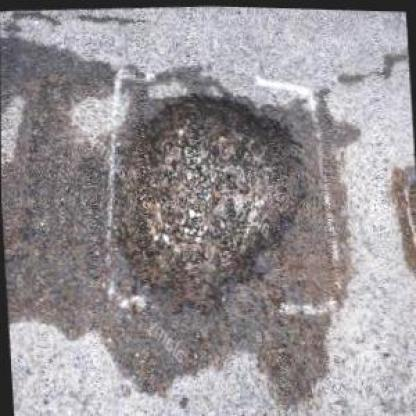pothole: (104, 78, 318, 316)
